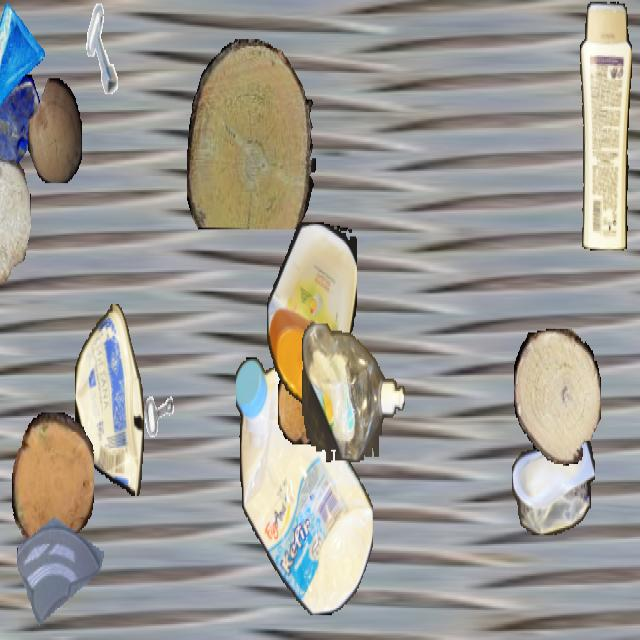glass: (17, 486, 103, 638), (0, 2, 45, 119), (0, 75, 44, 192)
metal: (125, 343, 183, 446), (78, 2, 130, 94)
plastic: (236, 356, 372, 615), (267, 222, 357, 404), (302, 324, 404, 462), (577, 2, 631, 250), (75, 304, 143, 496), (512, 427, 594, 533)
wood: (187, 39, 315, 228), (514, 329, 600, 464), (12, 413, 94, 551), (28, 78, 82, 182), (0, 158, 30, 283), (278, 362, 322, 444)
